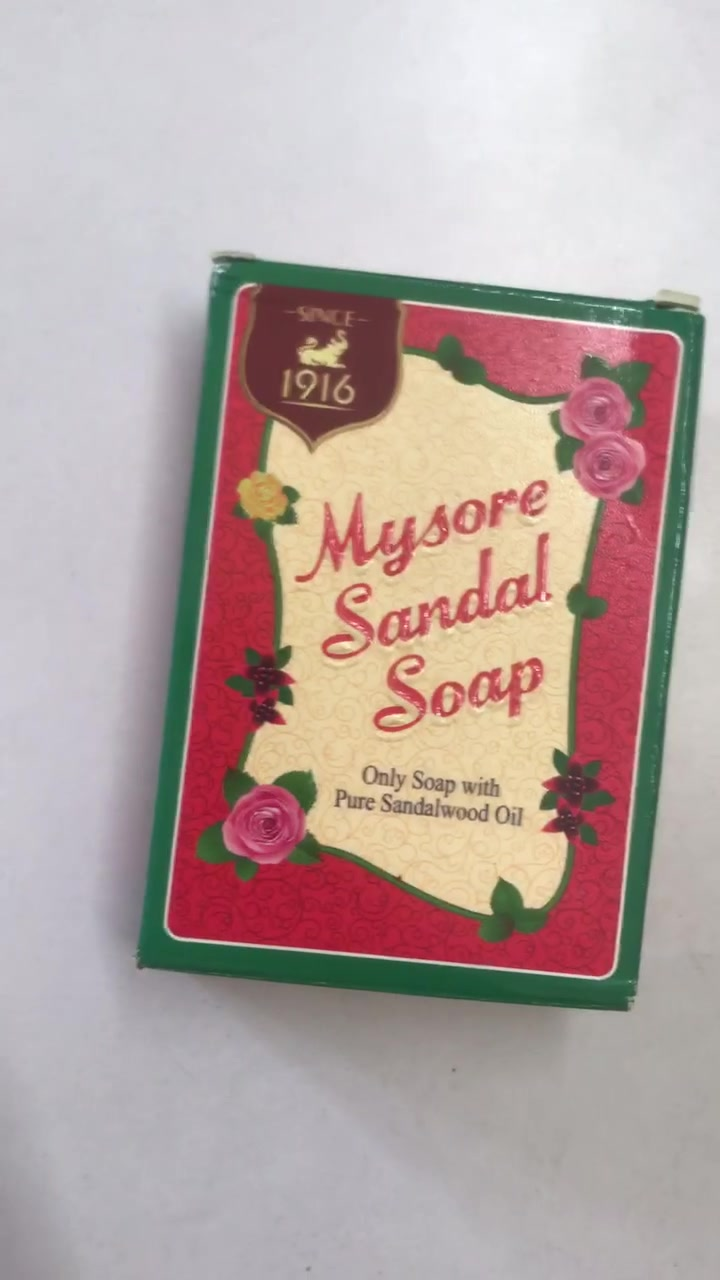mysore sandal soap: (138, 260, 708, 1010)
